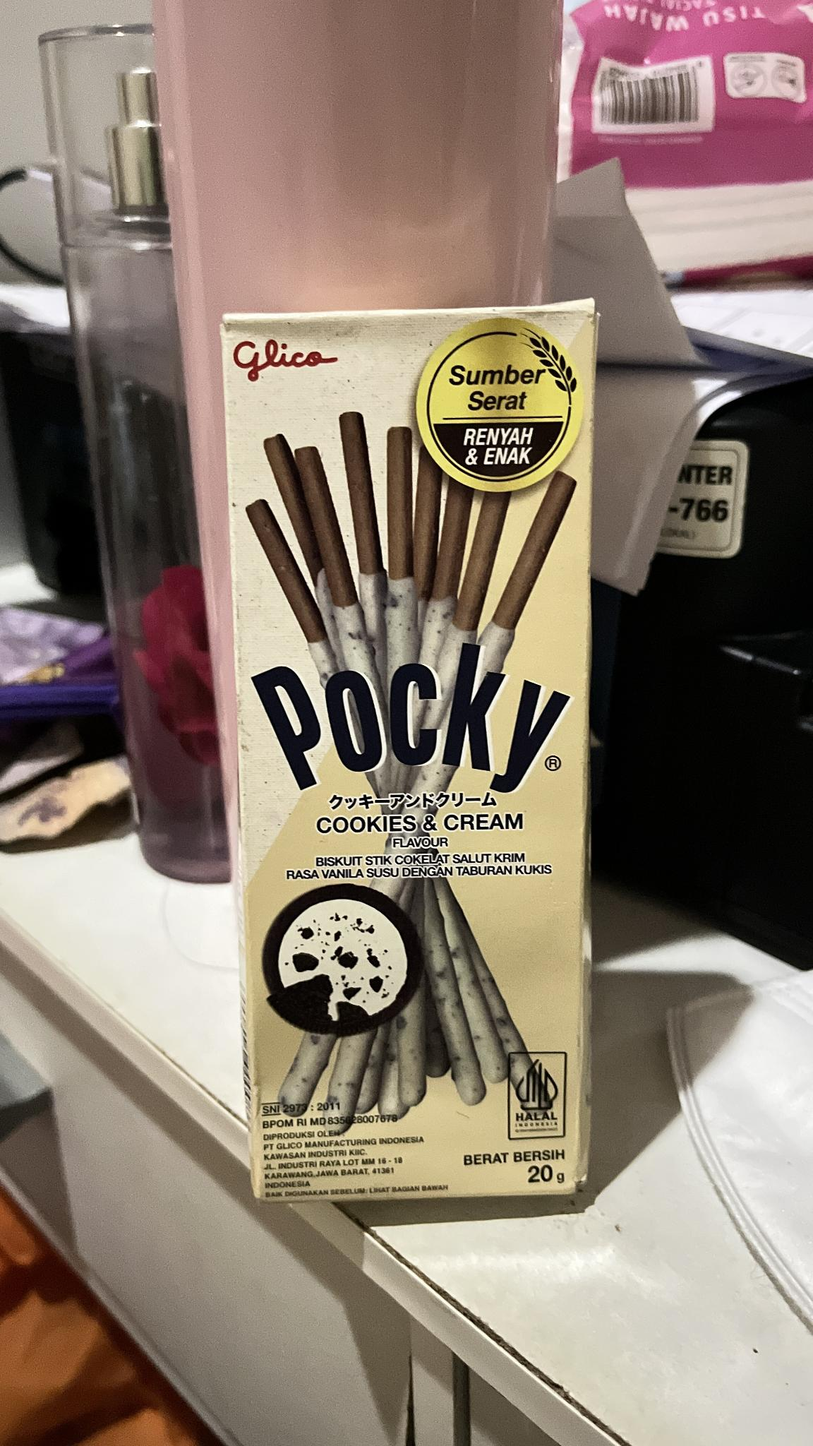Kertas: (222, 308, 595, 1201)
